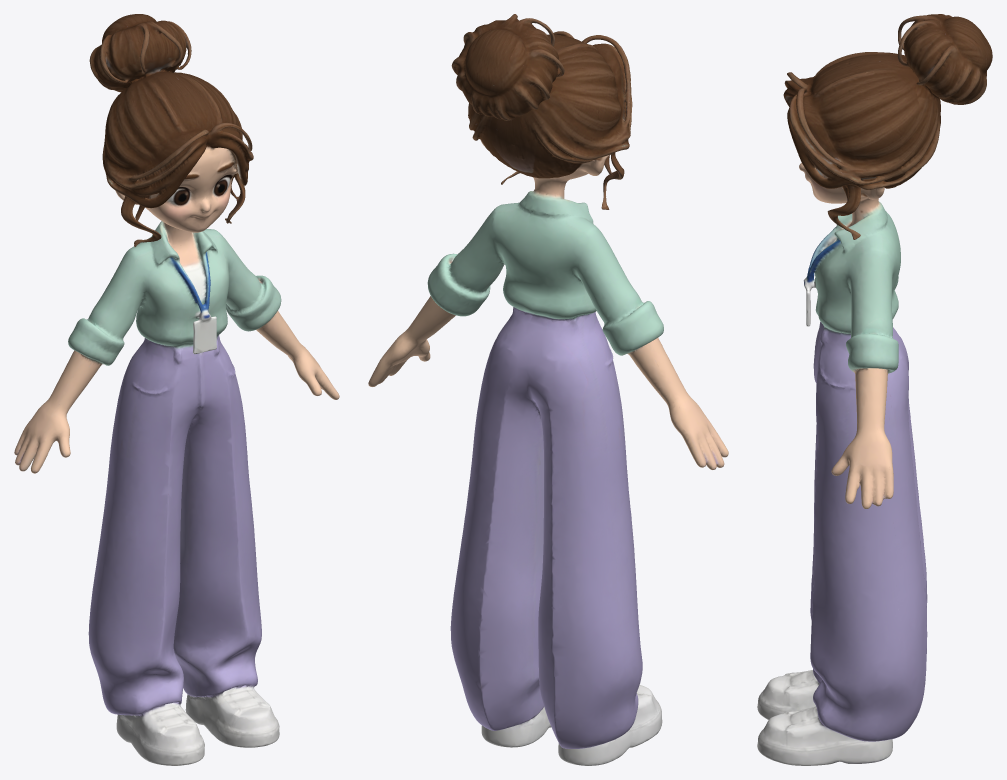
Rendered from female-meshy.glb.
3 views of the same model, side by side, from view 1: azimuth 30°, elevation 25°; view 2: azimuth 150°, elevation 25°; view 3: azimuth 270°, elevation 25° (orthographic). The views are drawn at different scales.
Bounding box in the file's own units: 0.9248 × 1.9 × 0.5652.
1 material, 1 textured.
